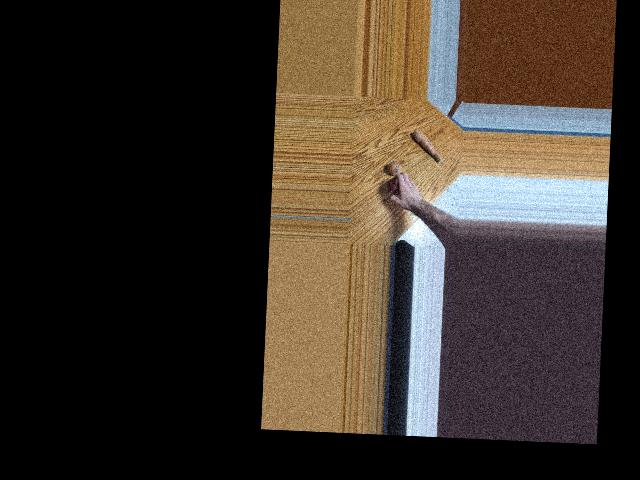onion: (387, 176, 403, 192)
